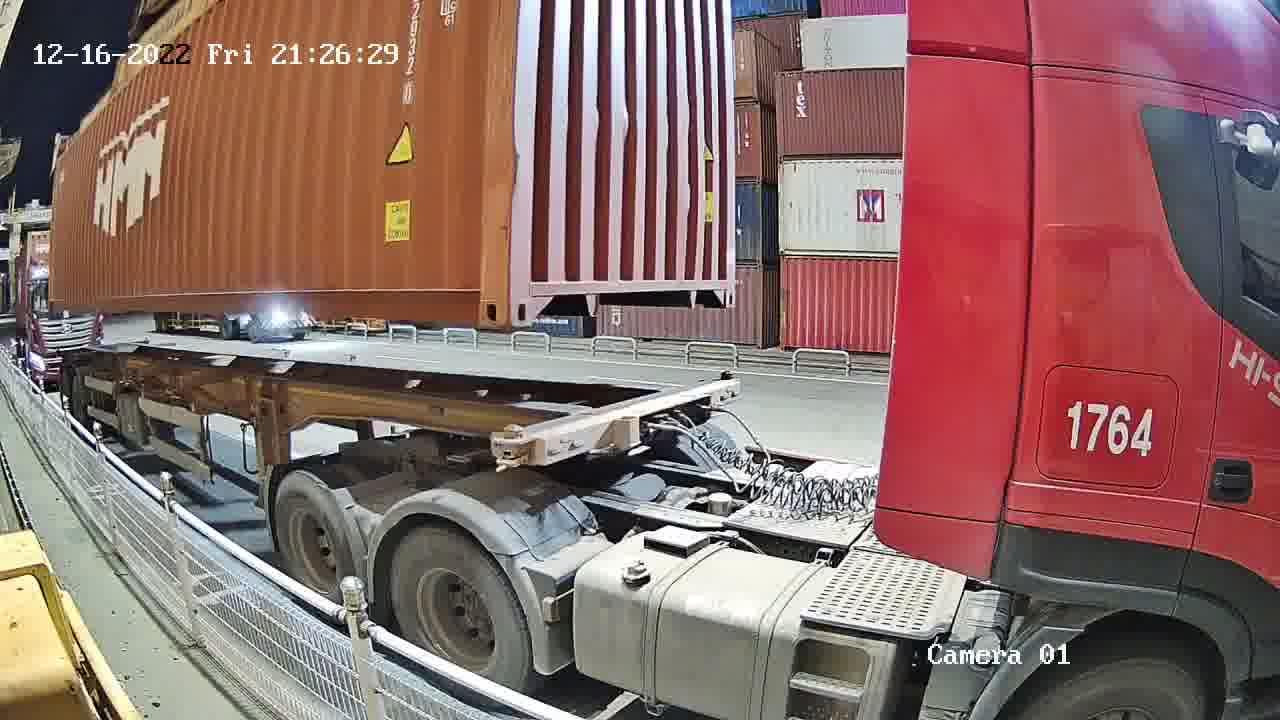Chassis: (531, 380, 738, 467)
Cone: (499, 423, 527, 468), (716, 370, 736, 406)
Hole_L: (510, 256, 562, 329)
Hole_R: (452, 252, 505, 326), (701, 246, 735, 310)
Tire: (388, 525, 529, 687), (274, 473, 353, 597)
